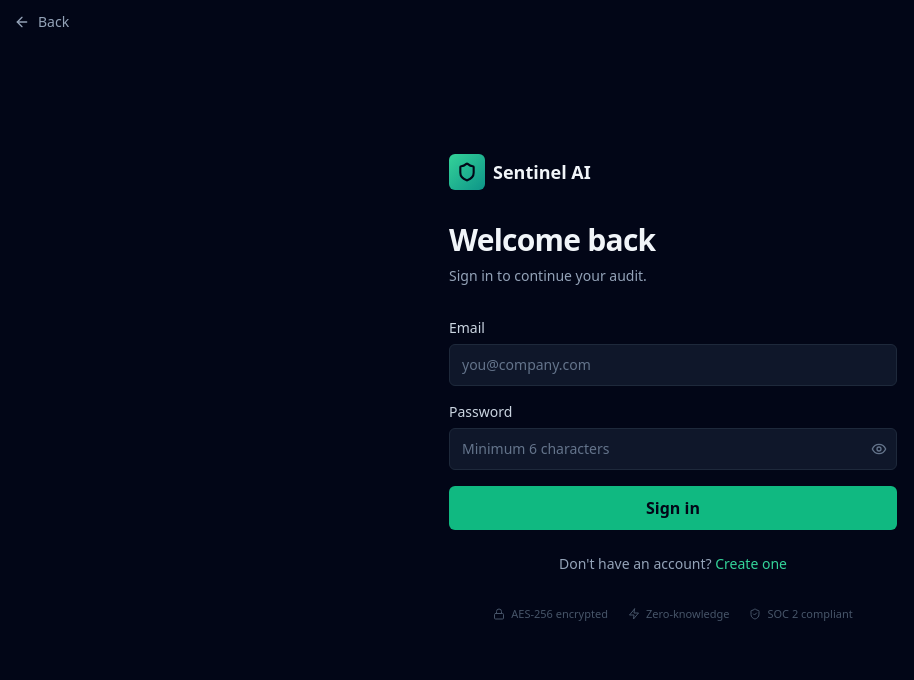
Test: Auth — Sign Up mode › switches to "Create your account" when Create one is clicked
The image size is (914, 680).
Click the button "Create one": [751, 564] box [715, 554, 787, 574]
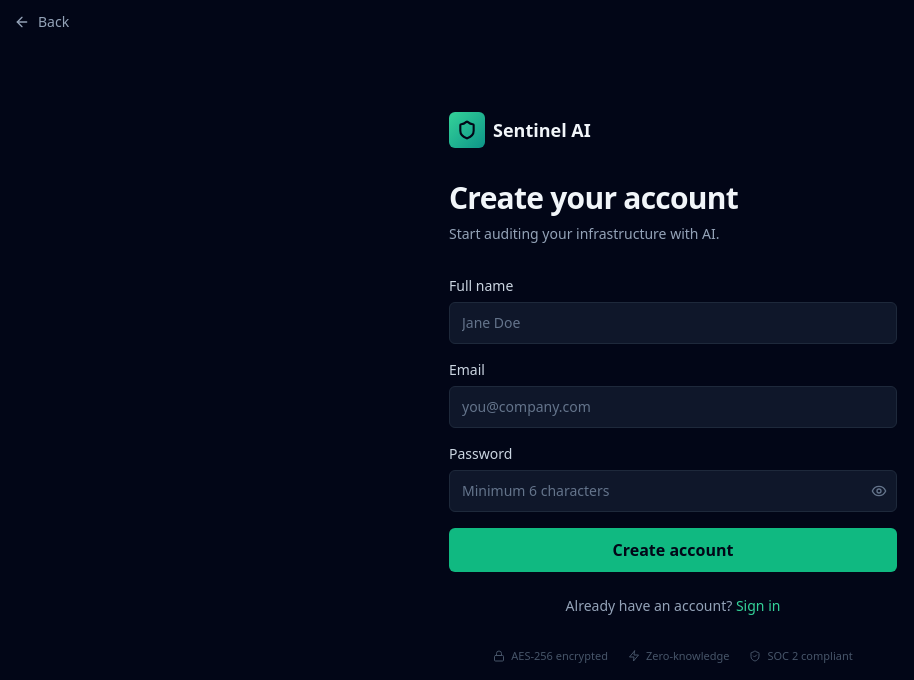
Result: the heading "Create your account" is shown at [449, 177, 738, 218]
